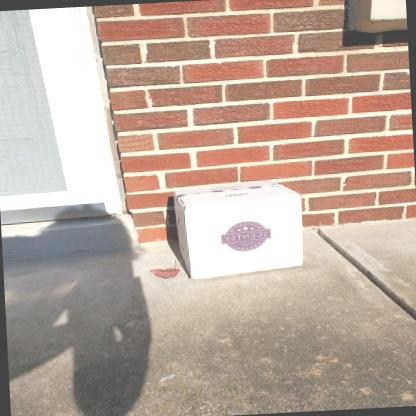box: (171, 178, 304, 282)
